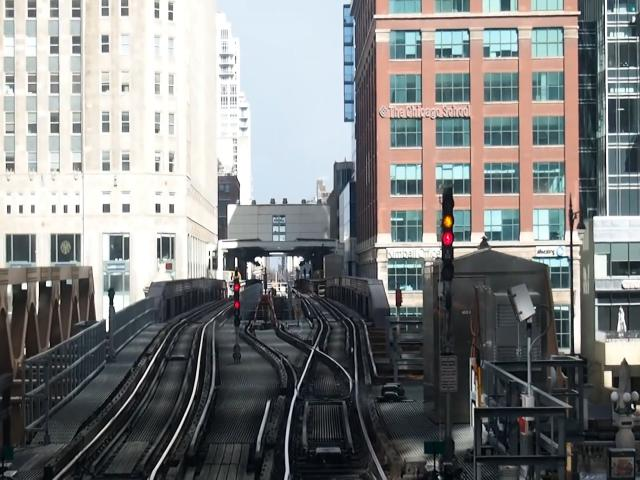signal light: (440, 184, 459, 286), (234, 278, 244, 329)
